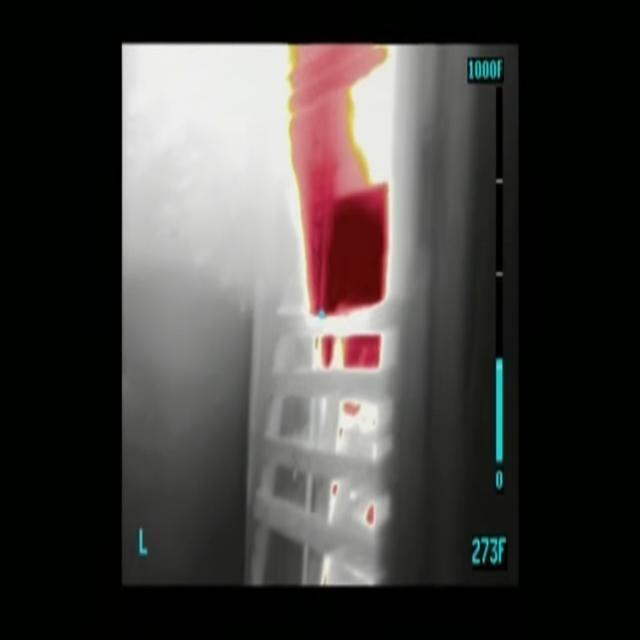fire: (285, 47, 398, 381)
